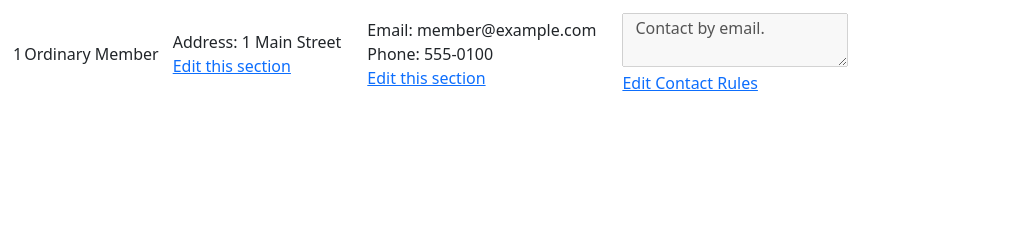
Test: shows an error and preserves entered contact details when saving fails
The width and height of the screenshot is (1036, 245).
Click the text "Edit this section" below "Phone:" at (426, 78), box [367,67,486,89]
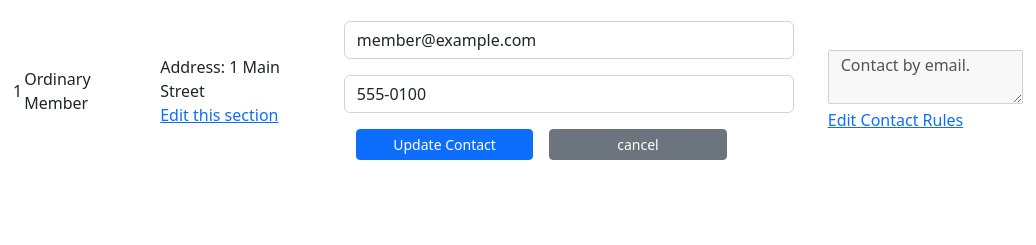
Replace the text in the 1st field with placeholder "Email" with "updated@example.com" at (569, 40), box [344,21,794,59]
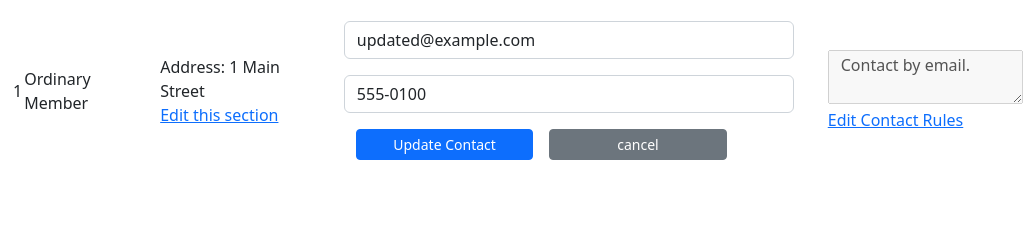
Click the button "Update Contact" at (445, 144), box [356,129,533,160]
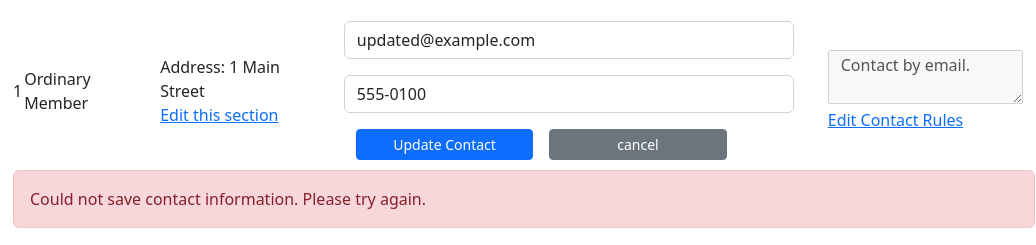
expect the message reads "Could not save contact information. Please try again.": met, box [30,188,426,210]
